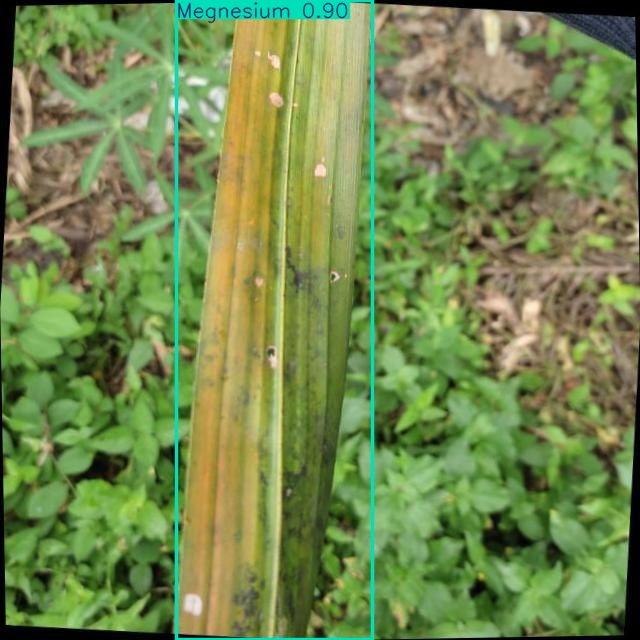Megnesium: (176, 0, 373, 640)
